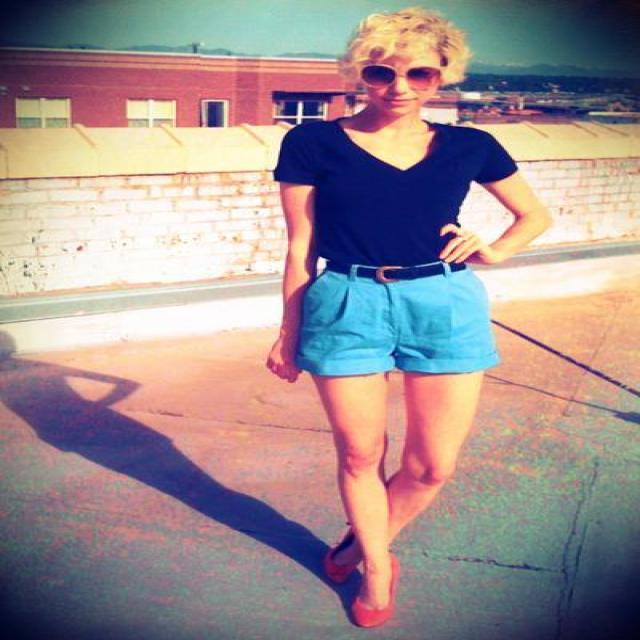shirt: (272, 117, 517, 268)
shoe: (326, 552, 394, 626)
shorts: (291, 269, 498, 374)
sunglass: (362, 65, 440, 82)
